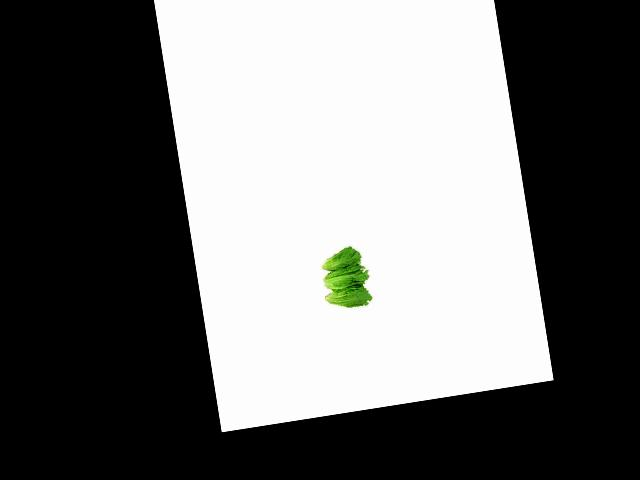lettuce: (309, 244, 364, 277)
